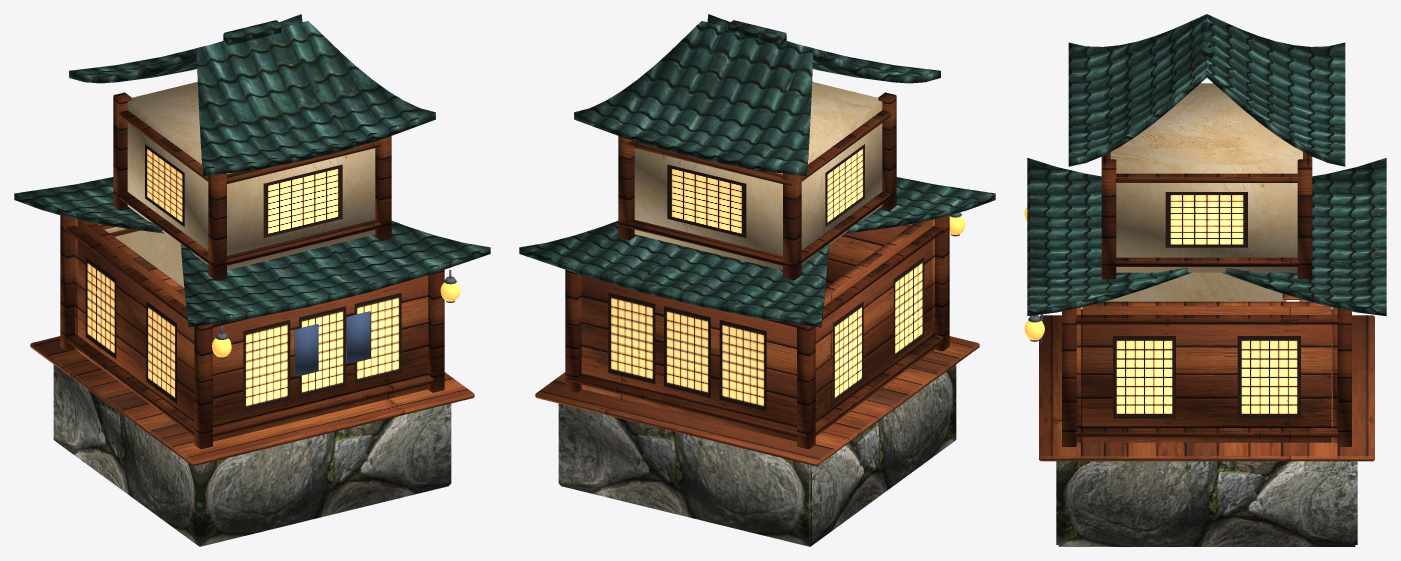
File: teahouse_hero_v2.glb
3 renders of one model, left to right at view 1: azimuth 30°, elevation 25°; view 2: azimuth 150°, elevation 25°; view 3: azimuth 270°, elevation 25°, orthographic. The views are drawn at different scales.
Parts seen in each view (by area): view 1: peek_roof_kawara, exterior_stone, exterior_cedar, exterior_shoji, peek_upper_plaster, exterior_charred, peek_upper_charred, peek_upper_shoji, exterior_noren, interior_room_walls, exterior_chochin; view 2: peek_roof_kawara, exterior_cedar, exterior_stone, exterior_shoji, peek_upper_plaster, exterior_charred, peek_upper_charred, peek_upper_shoji; view 3: peek_roof_kawara, exterior_cedar, exterior_stone, peek_upper_plaster, exterior_shoji, exterior_charred, peek_upper_charred, peek_upper_shoji, interior_room_walls.
Boxes of the visible parts, left/top/right/bottom form: peek_roof_kawara: left=14, top=14, right=490, bottom=327; exterior_stone: left=53, top=364, right=451, bottom=546; exterior_cedar: left=30, top=219, right=474, bottom=466; exterior_shoji: left=85, top=257, right=401, bottom=411; peek_upper_plaster: left=127, top=82, right=375, bottom=270; exterior_charred: left=60, top=215, right=444, bottom=449; peek_upper_charred: left=113, top=92, right=391, bottom=280; peek_upper_shoji: left=145, top=144, right=342, bottom=237; exterior_noren: left=294, top=311, right=370, bottom=376; interior_room_walls: left=105, top=227, right=184, bottom=287; exterior_chochin: left=212, top=282, right=460, bottom=357; peek_roof_kawara: left=519, top=14, right=995, bottom=327; exterior_cedar: left=535, top=219, right=979, bottom=466; exterior_stone: left=558, top=364, right=956, bottom=546; exterior_shoji: left=608, top=257, right=924, bottom=411; peek_upper_plaster: left=634, top=82, right=882, bottom=270; exterior_charred: left=565, top=215, right=949, bottom=449; peek_upper_charred: left=618, top=92, right=896, bottom=280; peek_upper_shoji: left=667, top=144, right=864, bottom=237; peek_roof_kawara: left=1027, top=14, right=1386, bottom=316; exterior_cedar: left=1039, top=301, right=1374, bottom=461; exterior_stone: left=1056, top=461, right=1357, bottom=546; peek_upper_plaster: left=1110, top=83, right=1302, bottom=272; exterior_shoji: left=1113, top=336, right=1300, bottom=418; exterior_charred: left=1062, top=308, right=1351, bottom=446; peek_upper_charred: left=1101, top=152, right=1312, bottom=279; peek_upper_shoji: left=1165, top=192, right=1247, bottom=247; interior_room_walls: left=1104, top=272, right=1308, bottom=301.
Size of the model in its own units: 4.89 by 6.74 by 4.93.
Materials: 17 (9 with a texture image).
